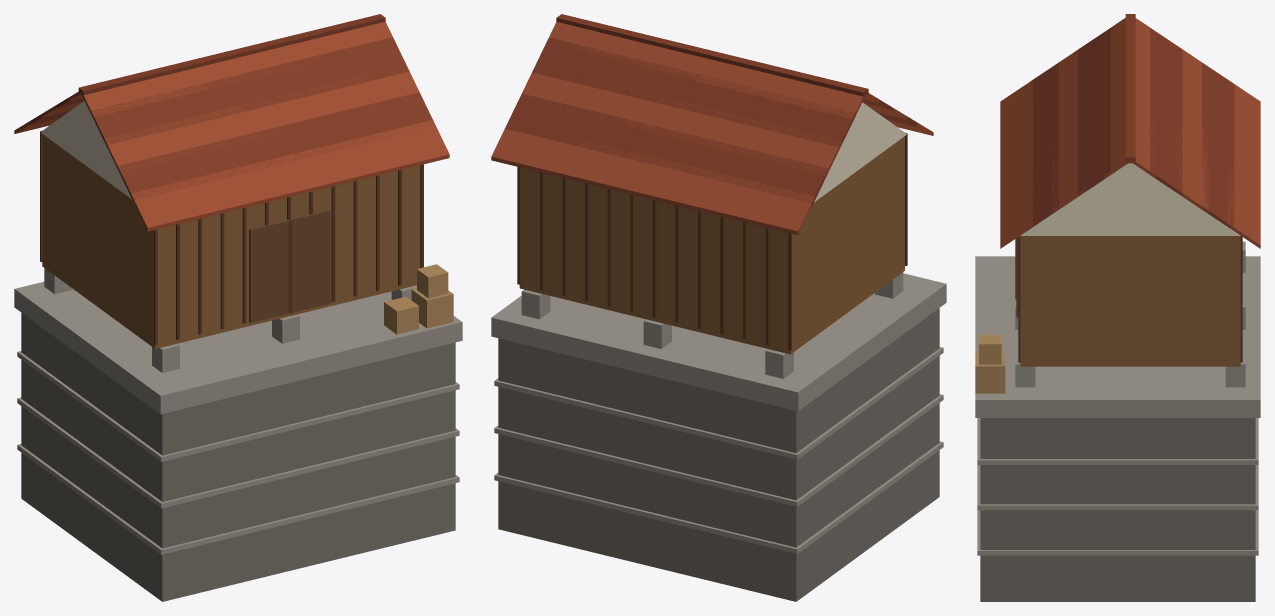
The model's file is storehouse.glb.
3 renders of one model, left to right at view 1: azimuth 30°, elevation 25°; view 2: azimuth 150°, elevation 25°; view 3: azimuth 270°, elevation 25°, orthographic. The views are drawn at different scales.
Visible parts, largest first — view 1: storehouse; view 2: storehouse; view 3: storehouse.
Part boxes in pixels (x1,y1,x2,y2): storehouse: (14,14,462,601); storehouse: (491,14,946,601); storehouse: (975,14,1260,601).
Bounding box in the file's own units: 6.8 × 9.84 × 5.7.
